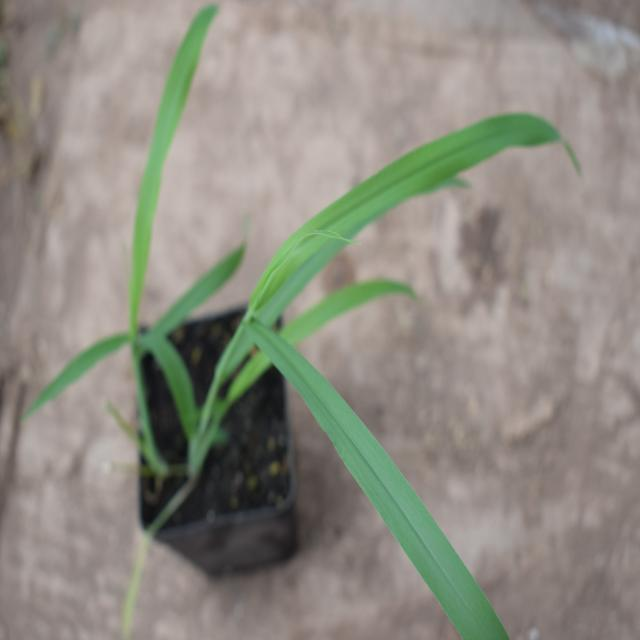crabgrass: (226, 70, 556, 626), (74, 0, 218, 489)
